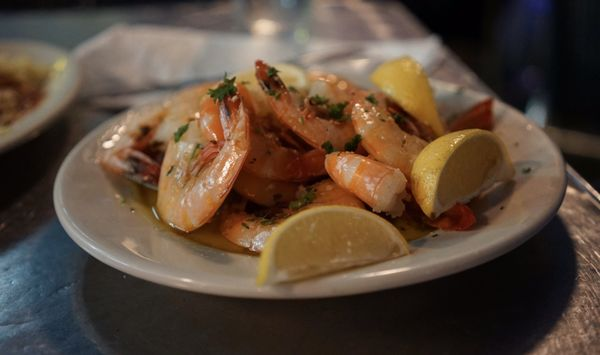curry: (1, 4, 553, 347)
sandwich: (0, 38, 84, 157)
